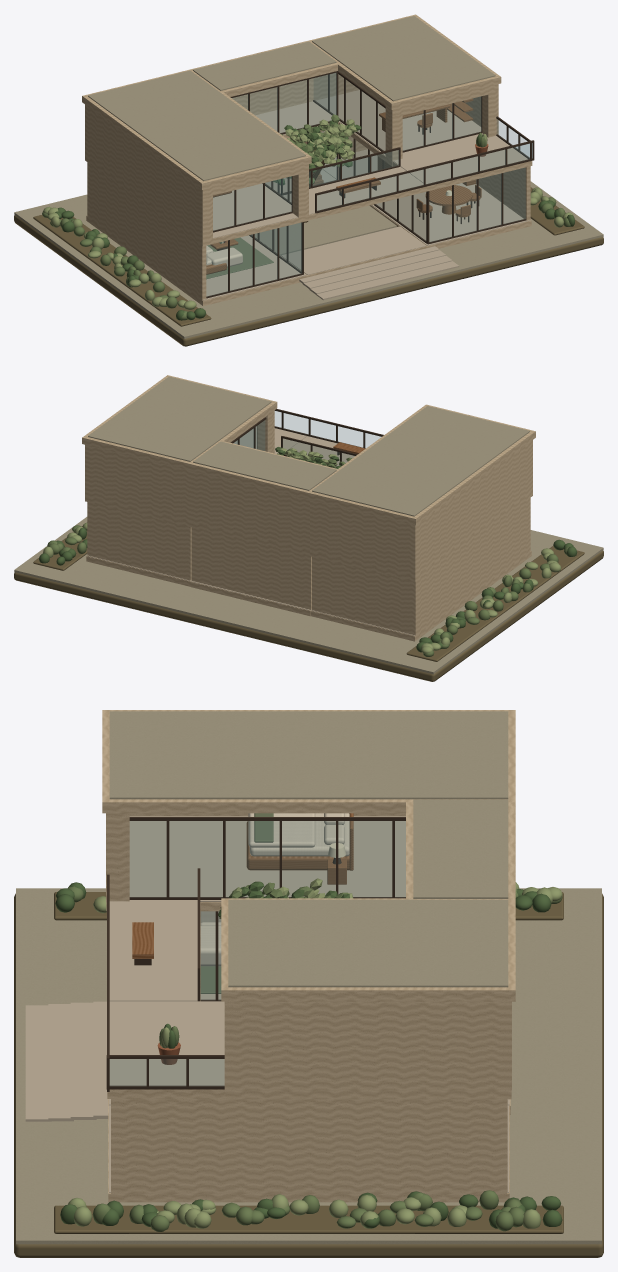
The model's file is furnished.glb.
The picture shows the model from 3 angles, top to bottom: view 1: azimuth 30°, elevation 25°; view 2: azimuth 150°, elevation 25°; view 3: azimuth 270°, elevation 25°; orthographic projection. The views are drawn at different scales.
Visible parts, largest first — view 1: roof, Garden, room_living, room_bedroom, room_terrace, room_courtyard, room_study, room_kitchen, floor_upper, floor_ground; view 2: roof, Garden, room_living, room_bedroom, floor_ground, room_study, floor_upper, room_kitchen, room_terrace, room_courtyard; view 3: Garden, roof, room_kitchen, room_study, room_bedroom, room_terrace, room_living, room_courtyard.
Part boxes in pixels (x1=…): roof: x1=82, y1=14, x2=501, y2=189; Garden: x1=14, y1=181, x2=603, y2=346; room_living: x1=86, y1=162, x2=307, y2=305; room_bedroom: x1=85, y1=104, x2=308, y2=246; room_terrace: x1=281, y1=116, x2=534, y2=220; room_courtyard: x1=252, y1=114, x2=426, y2=277; room_study: x1=311, y1=71, x2=498, y2=166; room_kitchen: x1=320, y1=131, x2=531, y2=248; floor_upper: x1=230, y1=71, x2=338, y2=138; floor_ground: x1=265, y1=130, x2=338, y2=194; roof: x1=82, y1=375, x2=535, y2=525; Garden: x1=14, y1=517, x2=603, y2=681; room_living: x1=310, y1=498, x2=531, y2=641; room_bedroom: x1=310, y1=440, x2=532, y2=581; floor_ground: x1=190, y1=527, x2=311, y2=616; room_study: x1=85, y1=410, x2=274, y2=526; floor_upper: x1=190, y1=470, x2=309, y2=556; room_kitchen: x1=86, y1=502, x2=191, y2=586; room_terrace: x1=233, y1=409, x2=383, y2=466; room_courtyard: x1=275, y1=447, x2=351, y2=468; Garden: x1=14, y1=882, x2=603, y2=1257; roof: x1=102, y1=710, x2=515, y2=1001; room_kitchen: x1=108, y1=1099, x2=509, y2=1202; room_study: x1=224, y1=1001, x2=511, y2=1099; room_bedroom: x1=106, y1=813, x2=405, y2=911; room_terrace: x1=106, y1=868, x2=224, y2=1098; room_living: x1=200, y1=911, x2=221, y2=1001; room_courtyard: x1=108, y1=878, x2=353, y2=1105.
Bounding box in the file's own units: 22 × 6.8 × 15.5.
17 materials, 4 textured.
